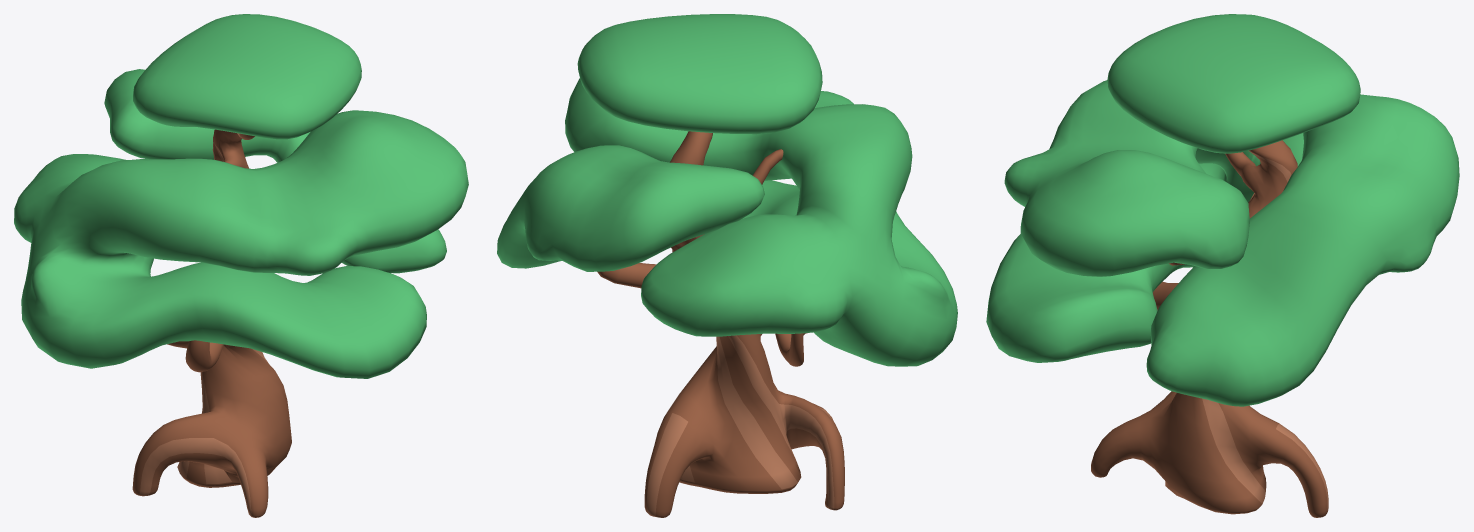
Rendered from TreeGiant_A_01.fbx.
3 views of the same model, side by side, from view 1: azimuth 30°, elevation 25°; view 2: azimuth 150°, elevation 25°; view 3: azimuth 270°, elevation 25° (orthographic). The views are drawn at different scales.
Visible parts, largest first — view 1: TreeGiant_A_01_LOD0; view 2: TreeGiant_A_01_LOD0; view 3: TreeGiant_A_01_LOD0.
Boxes of the visible parts, left/top/right/bottom form: TreeGiant_A_01_LOD0: left=14, top=14, right=468, bottom=517; TreeGiant_A_01_LOD0: left=497, top=14, right=957, bottom=517; TreeGiant_A_01_LOD0: left=986, top=14, right=1459, bottom=517.
Size of what is drawn, in the model's own units: 1760 by 1764 by 1617.
